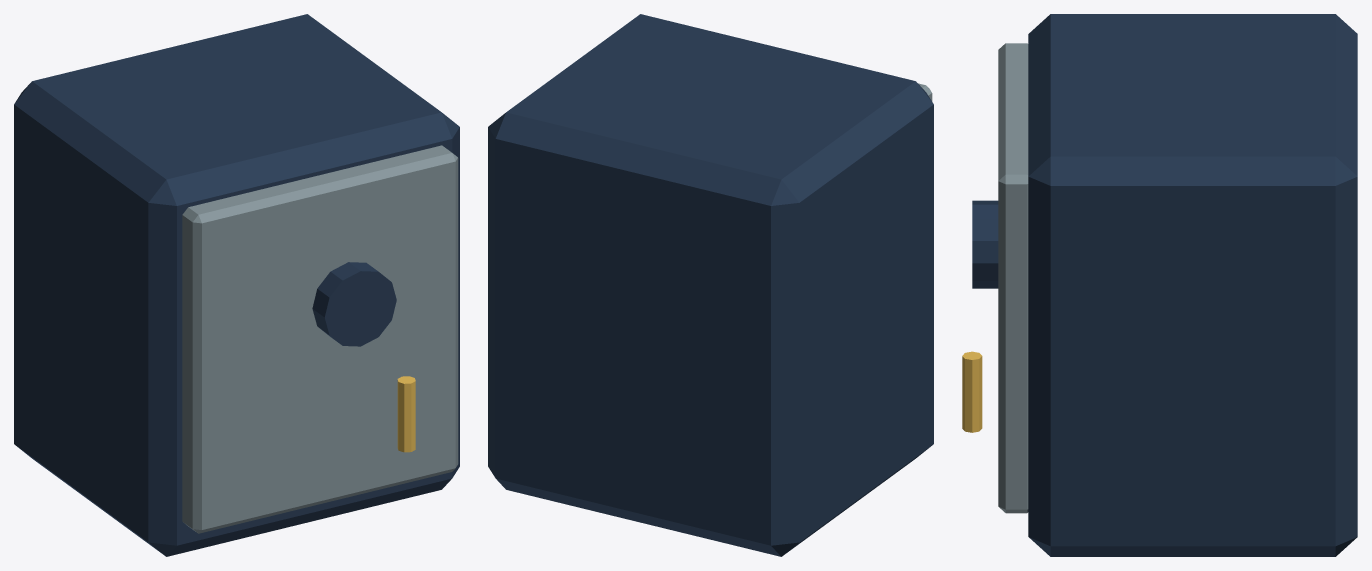
Rendered from Prop_Safe.fbx.
3 views of the same model, side by side, from view 1: azimuth 30°, elevation 25°; view 2: azimuth 150°, elevation 25°; view 3: azimuth 270°, elevation 25° (orthographic). The views are drawn at different scales.
Parts seen in each view (by area): view 1: SafeBody, Door, Dial, Handle.004; view 2: SafeBody; view 3: SafeBody, Door, Dial, Handle.004.
Part boxes in pixels (left/top/right/bottom): SafeBody: left=14, top=14, right=459, bottom=556; Door: left=182, top=145, right=458, bottom=533; Dial: left=312, top=262, right=396, bottom=346; Handle.004: left=397, top=376, right=415, bottom=452; SafeBody: left=488, top=14, right=933, bottom=556; SafeBody: left=1028, top=14, right=1357, bottom=556; Door: left=998, top=43, right=1028, bottom=513; Dial: left=972, top=200, right=998, bottom=288; Handle.004: left=962, top=351, right=982, bottom=432.
Bounding box in the file's own units: 0.95 × 1.1 × 0.985.
